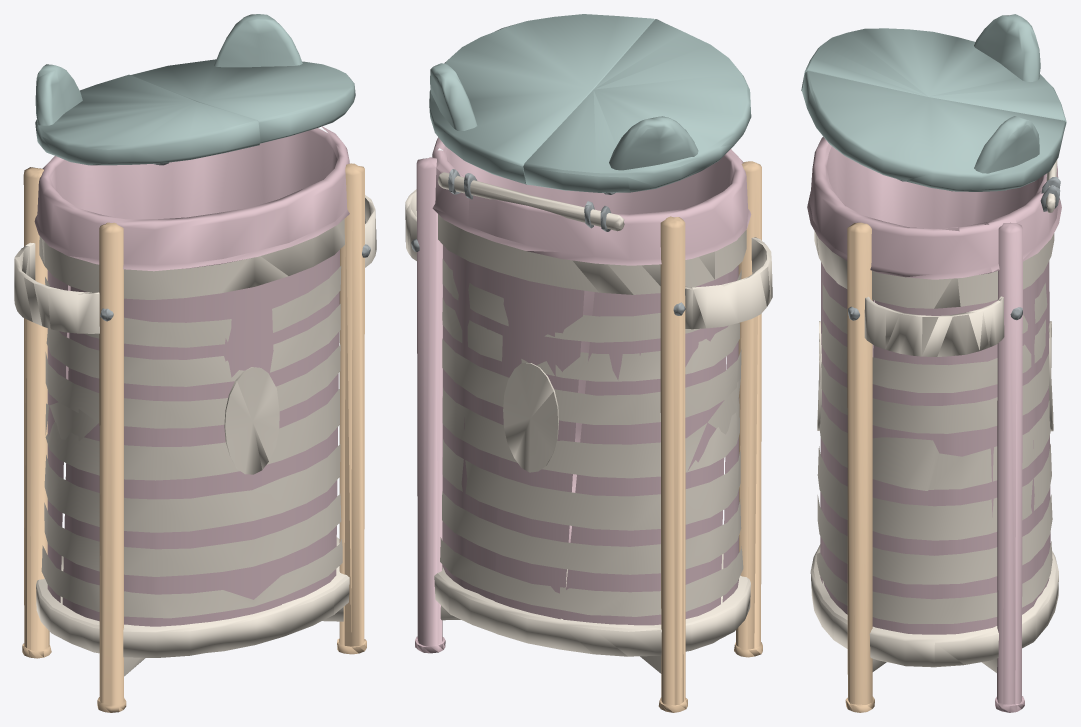
File: bath_hamper.glb
3 renders of one model, left to right at view 1: azimuth 30°, elevation 25°; view 2: azimuth 150°, elevation 25°; view 3: azimuth 270°, elevation 25°, orthographic.
Bounding box in the file's own units: 0.88 × 1.42 × 0.591.
